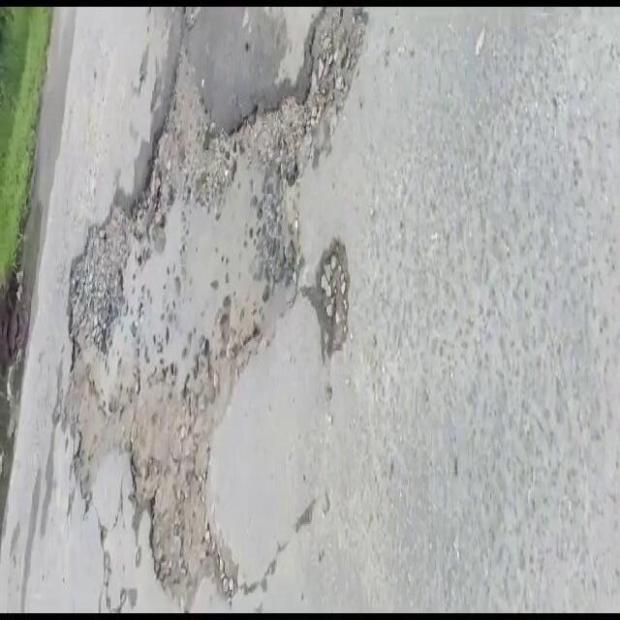lubang: (63, 8, 367, 609), (301, 239, 349, 357)
